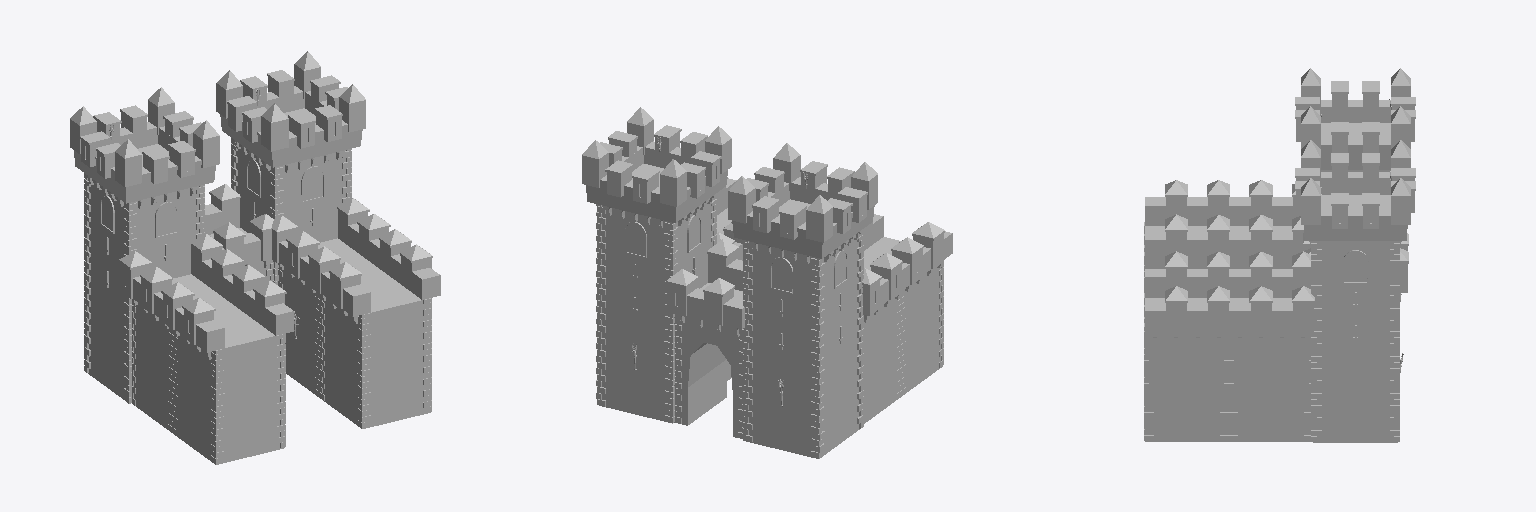
Rendered from Entrance.obj.
3 views of the same model, side by side, from view 1: azimuth 30°, elevation 25°; view 2: azimuth 150°, elevation 25°; view 3: azimuth 270°, elevation 25° (orthographic).
Visible parts, largest first — view 1: Entrance_Cube.041; view 2: Entrance_Cube.041; view 3: Entrance_Cube.041.
Boxes of the visible parts, <box> form: Entrance_Cube.041: <box>70,51,440,464</box>; Entrance_Cube.041: <box>582,107,952,458</box>; Entrance_Cube.041: <box>1144,68,1415,442</box>.
Bounding box in the file's own units: 13.74 × 13.91 × 12.9.